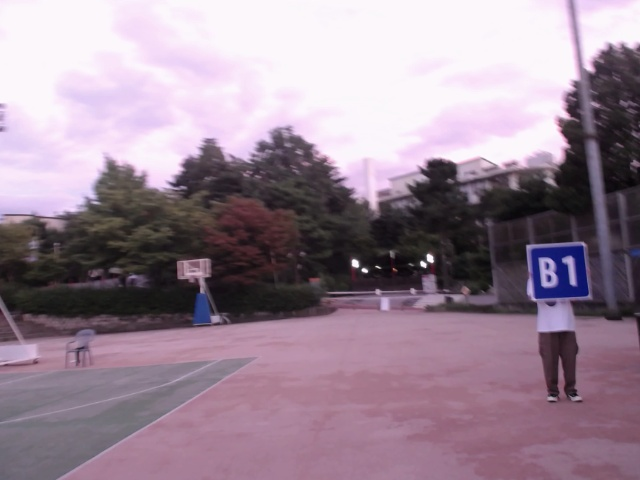delivery_b1: (528, 243, 590, 301)
